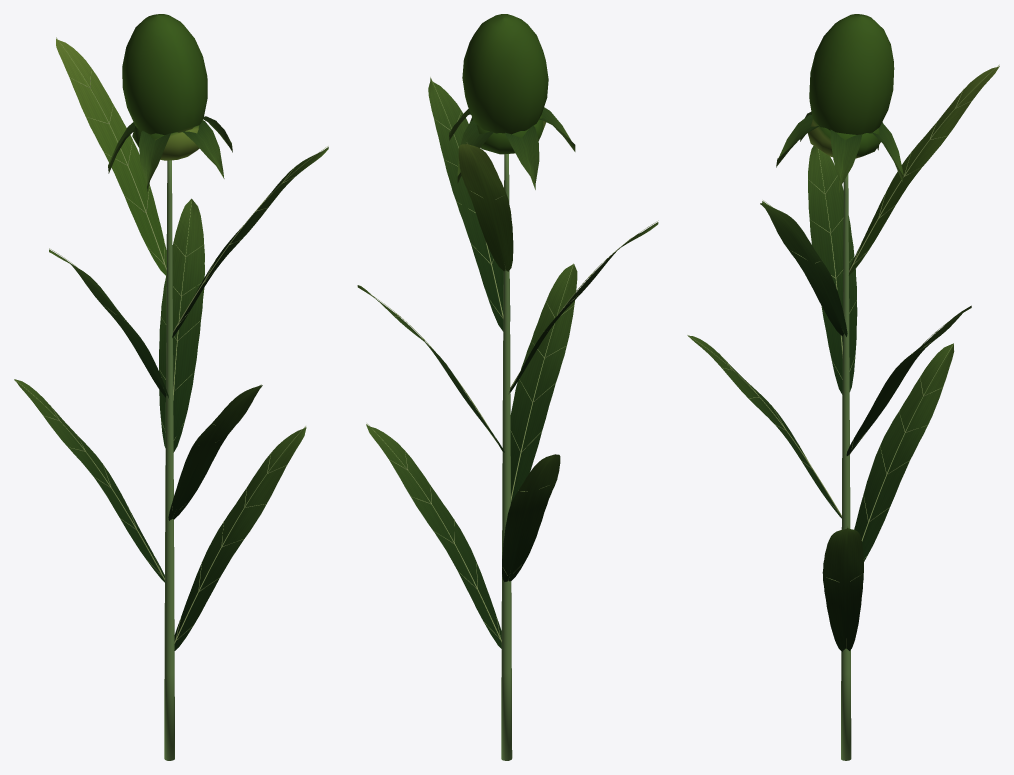
Rendered from iris-07.glb.
3 views of the same model, side by side, from view 1: azimuth 30°, elevation 25°; view 2: azimuth 150°, elevation 25°; view 3: azimuth 270°, elevation 25° (orthographic).
Parts seen in each view (by area): view 1: iris_stage_07_leaf_veins.012, iris_stage_07_young_leaf.012, iris_stage_07_stem_fibres.012, iris_stage_07_raised_midveins.012; view 2: iris_stage_07_leaf_veins.012, iris_stage_07_young_leaf.012, iris_stage_07_stem_fibres.012, iris_stage_07_raised_midveins.012; view 3: iris_stage_07_leaf_veins.012, iris_stage_07_young_leaf.012, iris_stage_07_stem_fibres.012, iris_stage_07_raised_midveins.012.
Boxes of the visible parts, left/top/right/bottom form: iris_stage_07_leaf_veins.012: left=14, top=116, right=328, bottom=650; iris_stage_07_young_leaf.012: left=56, top=14, right=207, bottom=275; iris_stage_07_stem_fibres.012: left=164, top=160, right=174, bottom=760; iris_stage_07_raised_midveins.012: left=15, top=37, right=327, bottom=643; iris_stage_07_leaf_veins.012: left=357, top=78, right=658, bottom=648; iris_stage_07_young_leaf.012: left=458, top=14, right=548, bottom=271; iris_stage_07_stem_fibres.012: left=501, top=154, right=512, bottom=760; iris_stage_07_raised_midveins.012: left=367, top=77, right=658, bottom=642; iris_stage_07_leaf_veins.012: left=687, top=111, right=971, bottom=651; iris_stage_07_young_leaf.012: left=807, top=14, right=999, bottom=275; iris_stage_07_stem_fibres.012: left=841, top=174, right=851, bottom=760; iris_stage_07_raised_midveins.012: left=688, top=64, right=999, bottom=647.
Bounding box in the file's own units: 0.2301 × 0.5946 × 0.2274.
4 materials, 2 textured.
